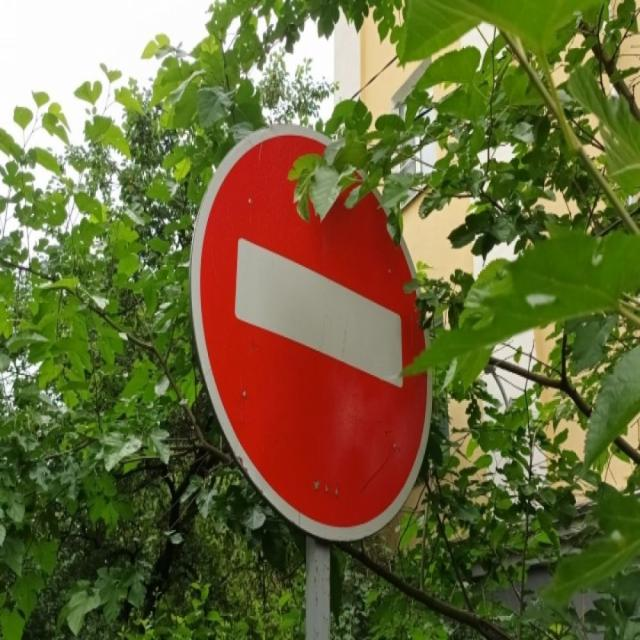no entry: (187, 122, 435, 548)
